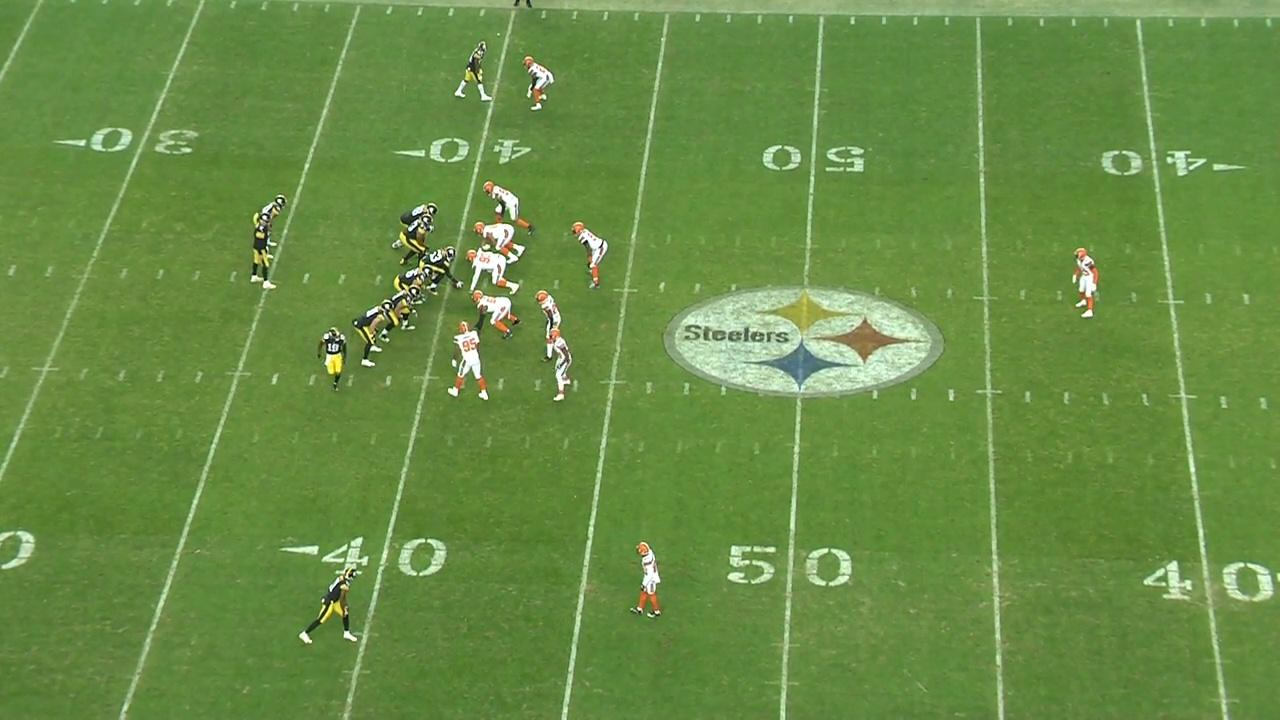player: (295, 565, 363, 649), (443, 320, 489, 403), (481, 177, 536, 237), (1063, 244, 1103, 323), (352, 297, 395, 370), (631, 537, 665, 622), (452, 38, 495, 105), (470, 288, 522, 343), (570, 218, 609, 291), (245, 211, 279, 292), (249, 194, 290, 260), (314, 323, 351, 396), (464, 248, 521, 295), (391, 201, 442, 252), (379, 285, 421, 345), (470, 220, 526, 265), (391, 263, 435, 319), (534, 286, 565, 365), (418, 246, 462, 296), (548, 329, 575, 404), (398, 213, 434, 268), (523, 54, 554, 115)
